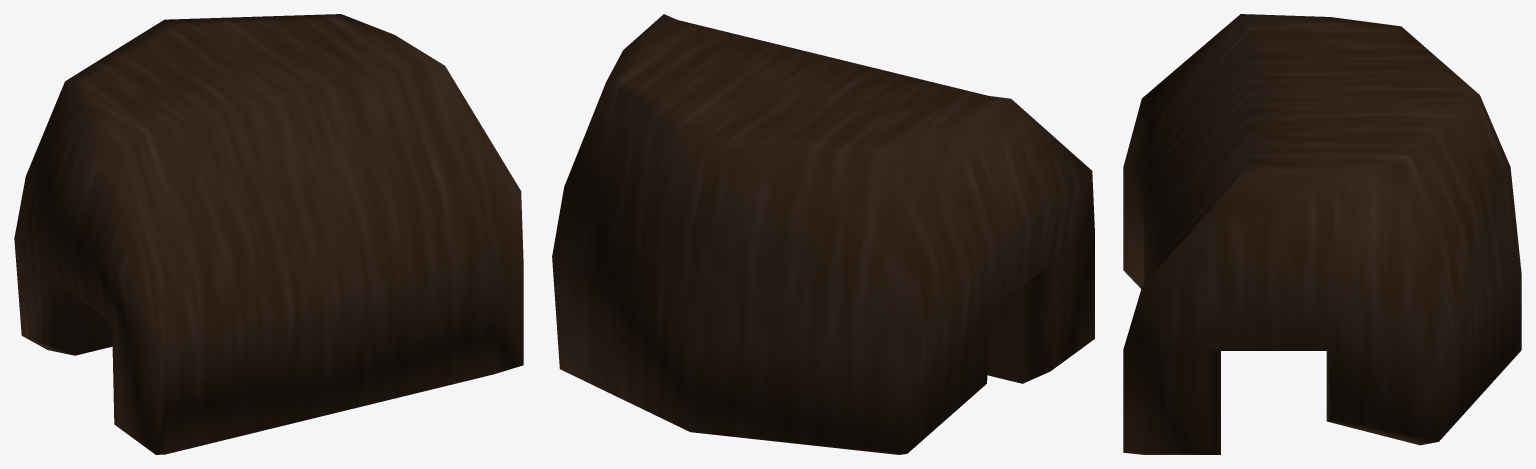
The model's file is the_apex.glb.
3 views of the same model, side by side, from view 1: azimuth 30°, elevation 25°; view 2: azimuth 150°, elevation 25°; view 3: azimuth 270°, elevation 25° (orthographic). The views are drawn at different scales.
Parts seen in each view (by area): view 1: The Apex; view 2: The Apex; view 3: The Apex.
Boxes of the visible parts, x1,y1,x2,y2 form: The Apex: [14, 14, 523, 454]; The Apex: [552, 14, 1094, 454]; The Apex: [1123, 14, 1521, 454].
Bounding box in the file's own units: 0.1908 × 0.1281 × 0.1648.
Materials: 1 (1 with a texture image).
